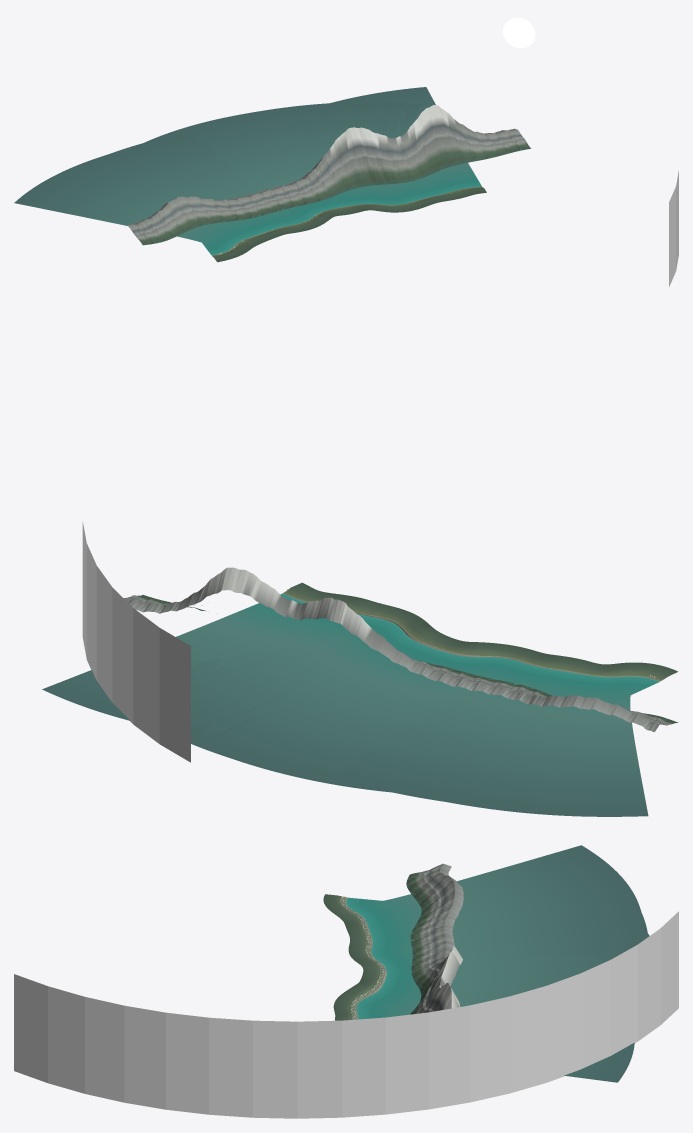
Rendered from lakelouise.glb.
3 renders of one model, top to bottom at view 1: azimuth 30°, elevation 25°; view 2: azimuth 150°, elevation 25°; view 3: azimuth 270°, elevation 25°, orthographic. The views are drawn at different scales.
Parts seen in each view (by area): view 1: Sea, FairviewRock, VictoriaGlacier, Sun; view 2: Sea, VictoriaGlacier, FairviewRock, Land_000, Land_006, Land_003; view 3: VictoriaGlacier, Sea, FairviewRock, Land_000, Land_005, Land_006, Land_002.
Part boxes in pixels (bbox=[...]): Sea: bbox=[14, 87, 481, 255]; FairviewRock: bbox=[125, 105, 530, 245]; VictoriaGlacier: bbox=[669, 170, 678, 286]; Sun: bbox=[503, 18, 535, 48]; Sea: bbox=[42, 593, 659, 816]; VictoriaGlacier: bbox=[82, 521, 190, 762]; FairviewRock: bbox=[124, 567, 678, 731]; Land_000: bbox=[611, 662, 677, 681]; Land_006: bbox=[354, 599, 418, 624]; Land_003: bbox=[465, 642, 529, 660]; VictoriaGlacier: bbox=[14, 911, 678, 1118]; Sea: bbox=[346, 845, 649, 1082]; FairviewRock: bbox=[406, 863, 463, 1014]; Land_000: bbox=[323, 894, 358, 917]; Land_005: bbox=[340, 981, 381, 1001]; Land_006: bbox=[333, 996, 359, 1018]; Land_002: bbox=[347, 930, 372, 949].
Bounding box in the file's own units: 14280 × 2364 × 14670.
